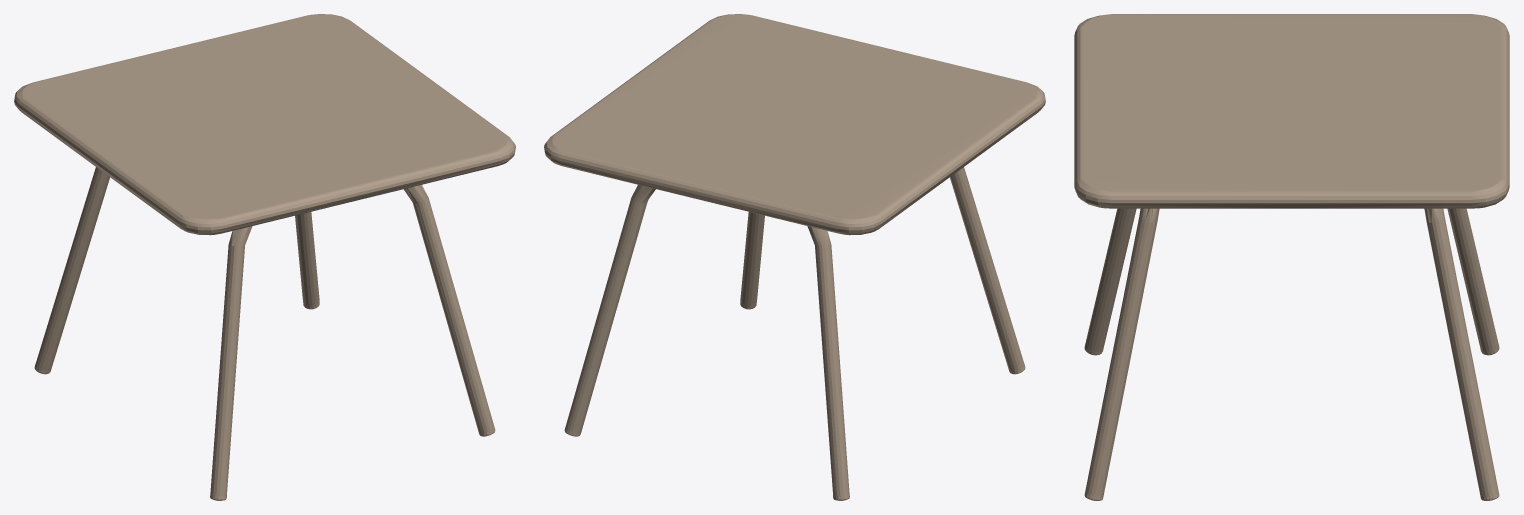
The model's file is luxembourg-bambini-tisch-57x57.glb.
3 renders of one model, left to right at view 1: azimuth 30°, elevation 25°; view 2: azimuth 150°, elevation 25°; view 3: azimuth 270°, elevation 25°, orthographic. The views are drawn at different scales.
Visible parts, largest first — view 1: Gestell; view 2: Gestell; view 3: Gestell.
Boxes of the visible parts, bbox=[...] form: Gestell: bbox=[14, 14, 515, 500]; Gestell: bbox=[544, 14, 1045, 500]; Gestell: bbox=[1074, 14, 1509, 500].
Size of the model in its own units: 0.575 by 0.472 by 0.575.
